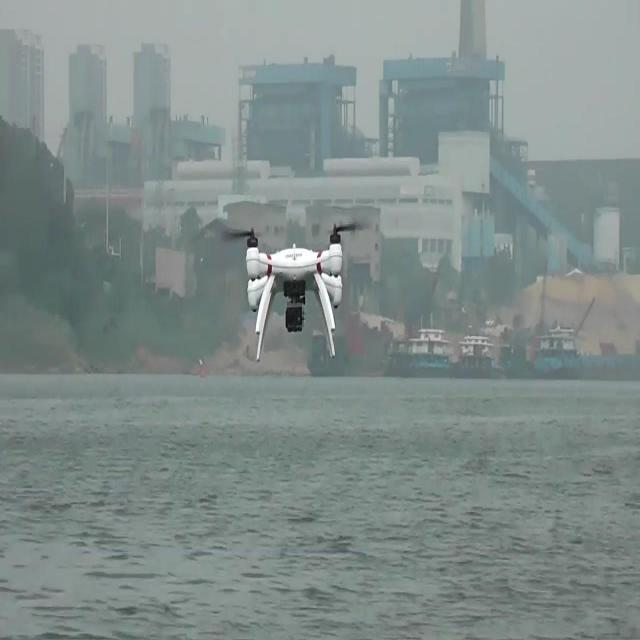UAV: (223, 223, 367, 362)
